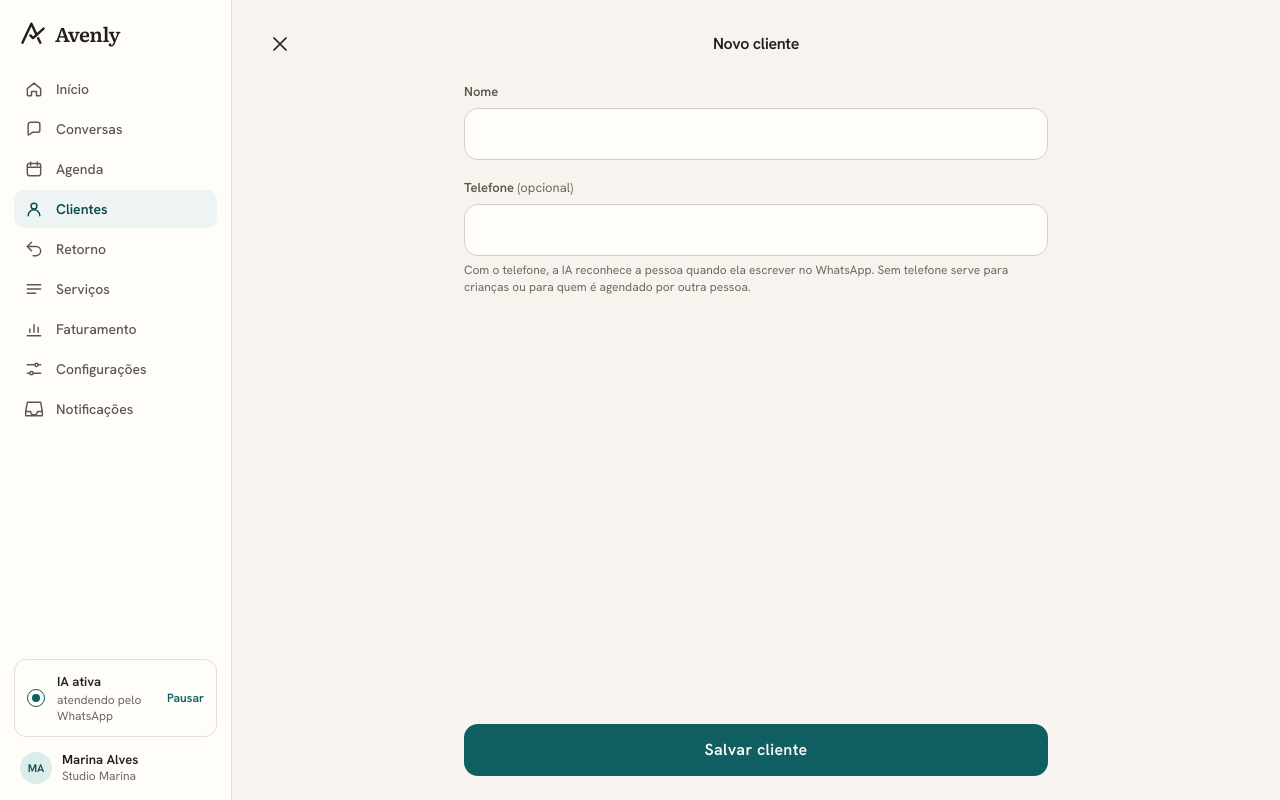
it: Goal112 CL4: /clientes/novo guarda o que foi digitado › estreito para largo e de volta
This screenshot has width=1280, height=800.
Type "Maria Souza" into the field labelled "Nome" at (756, 134), box [464,108,1048,160]
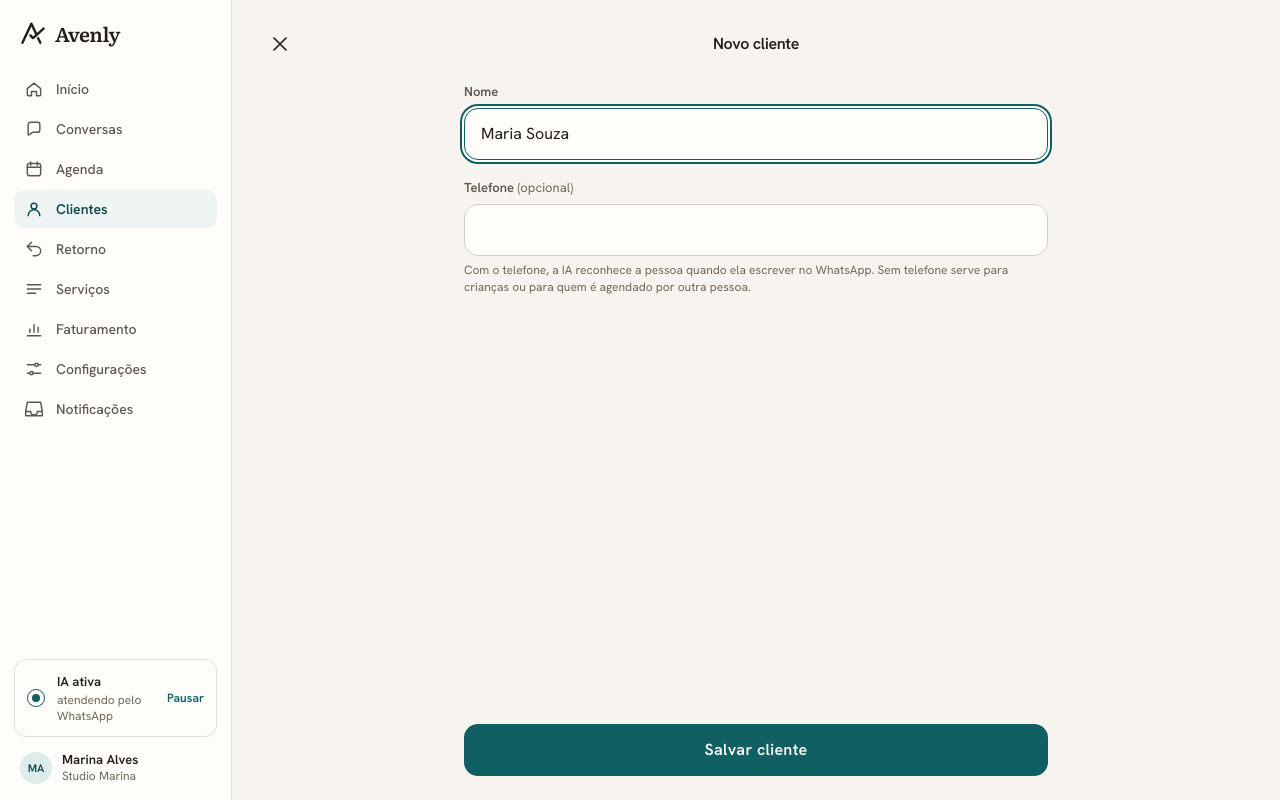
Type "11987654321" into the field labelled "Telefone (opcional)" at (756, 230), box [464,204,1048,256]
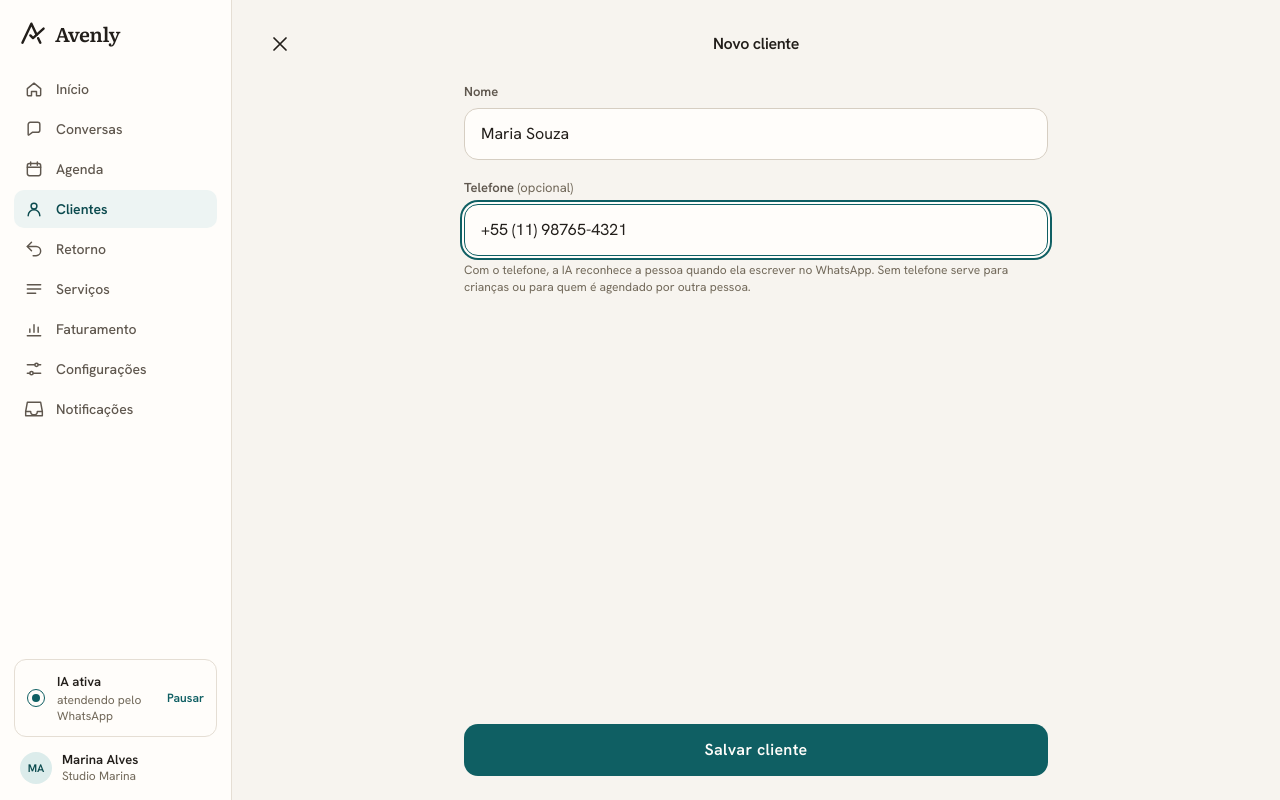
Now the field labelled "Telefone (opcional)" is not empty, box [464,204,1048,256]
